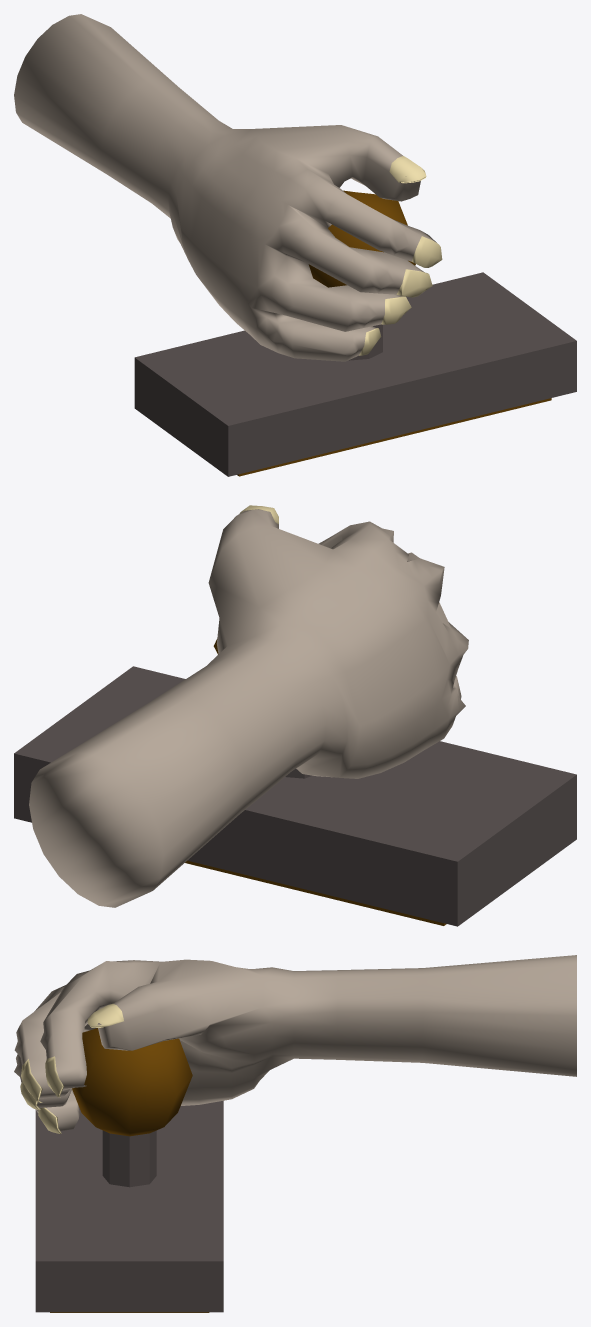
File: stamphand.fbx
The picture shows the model from 3 angles, top to bottom: view 1: azimuth 30°, elevation 25°; view 2: azimuth 150°, elevation 25°; view 3: azimuth 270°, elevation 25°; orthographic projection. The views are drawn at different scales.
Parts seen in each view (by area): view 1: pCube18; view 2: pCube18; view 3: pCube18.
Boxes of the visible parts, box(x1,y1,x2,y2) form: pCube18: box(14, 14, 576, 476); pCube18: box(14, 505, 576, 926); pCube18: box(14, 955, 576, 1312).
Bounding box in the file's own units: 23.29 × 16.62 × 32.45.
